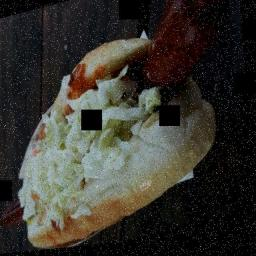hotdog: (118, 0, 252, 115), (0, 192, 32, 232)
